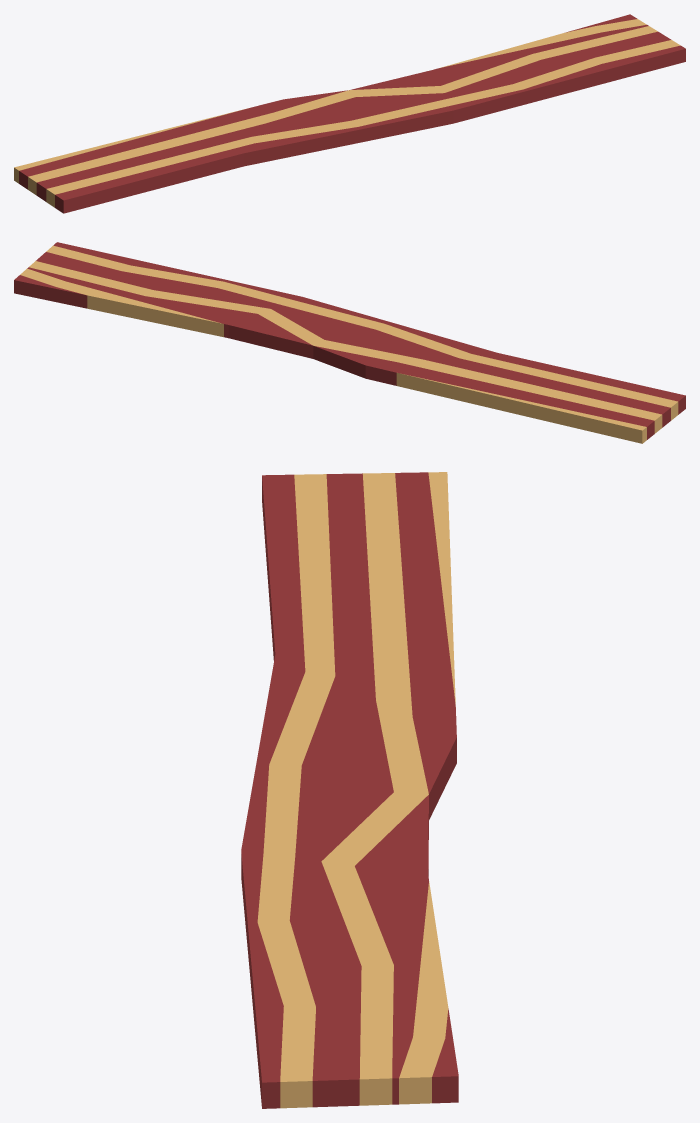
Rendered from Bacon.fbx.
3 views of the same model, one above another, from view 1: azimuth 30°, elevation 25°; view 2: azimuth 150°, elevation 25°; view 3: azimuth 270°, elevation 25° (orthographic). The views are drawn at different scales.
Parts seen in each view (by area): view 1: Bacon; view 2: Bacon; view 3: Bacon.
Part boxes in pixels (left/top/right/bottom): Bacon: left=14, top=14, right=685, bottom=213; Bacon: left=14, top=242, right=685, bottom=443; Bacon: left=241, top=472, right=458, bottom=1108.
Size of the model in its own units: 49.75 by 1 by 7.49.
